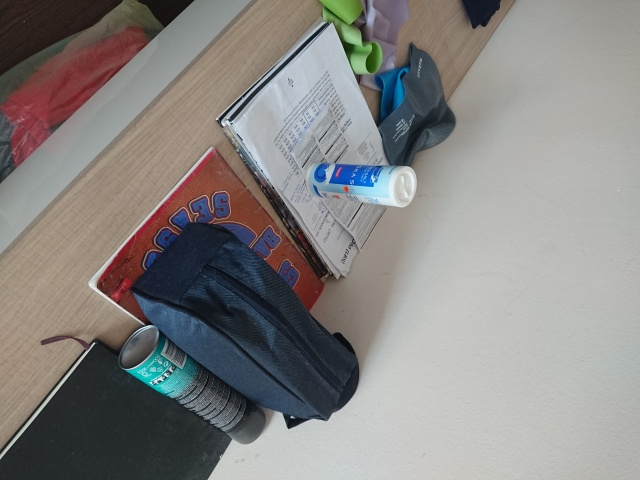Solana Pag Fine Sea Salt 250g: (303, 160, 419, 210)
